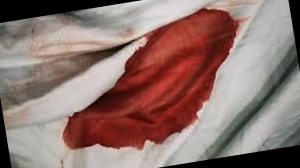blood: (75, 12, 253, 155)
